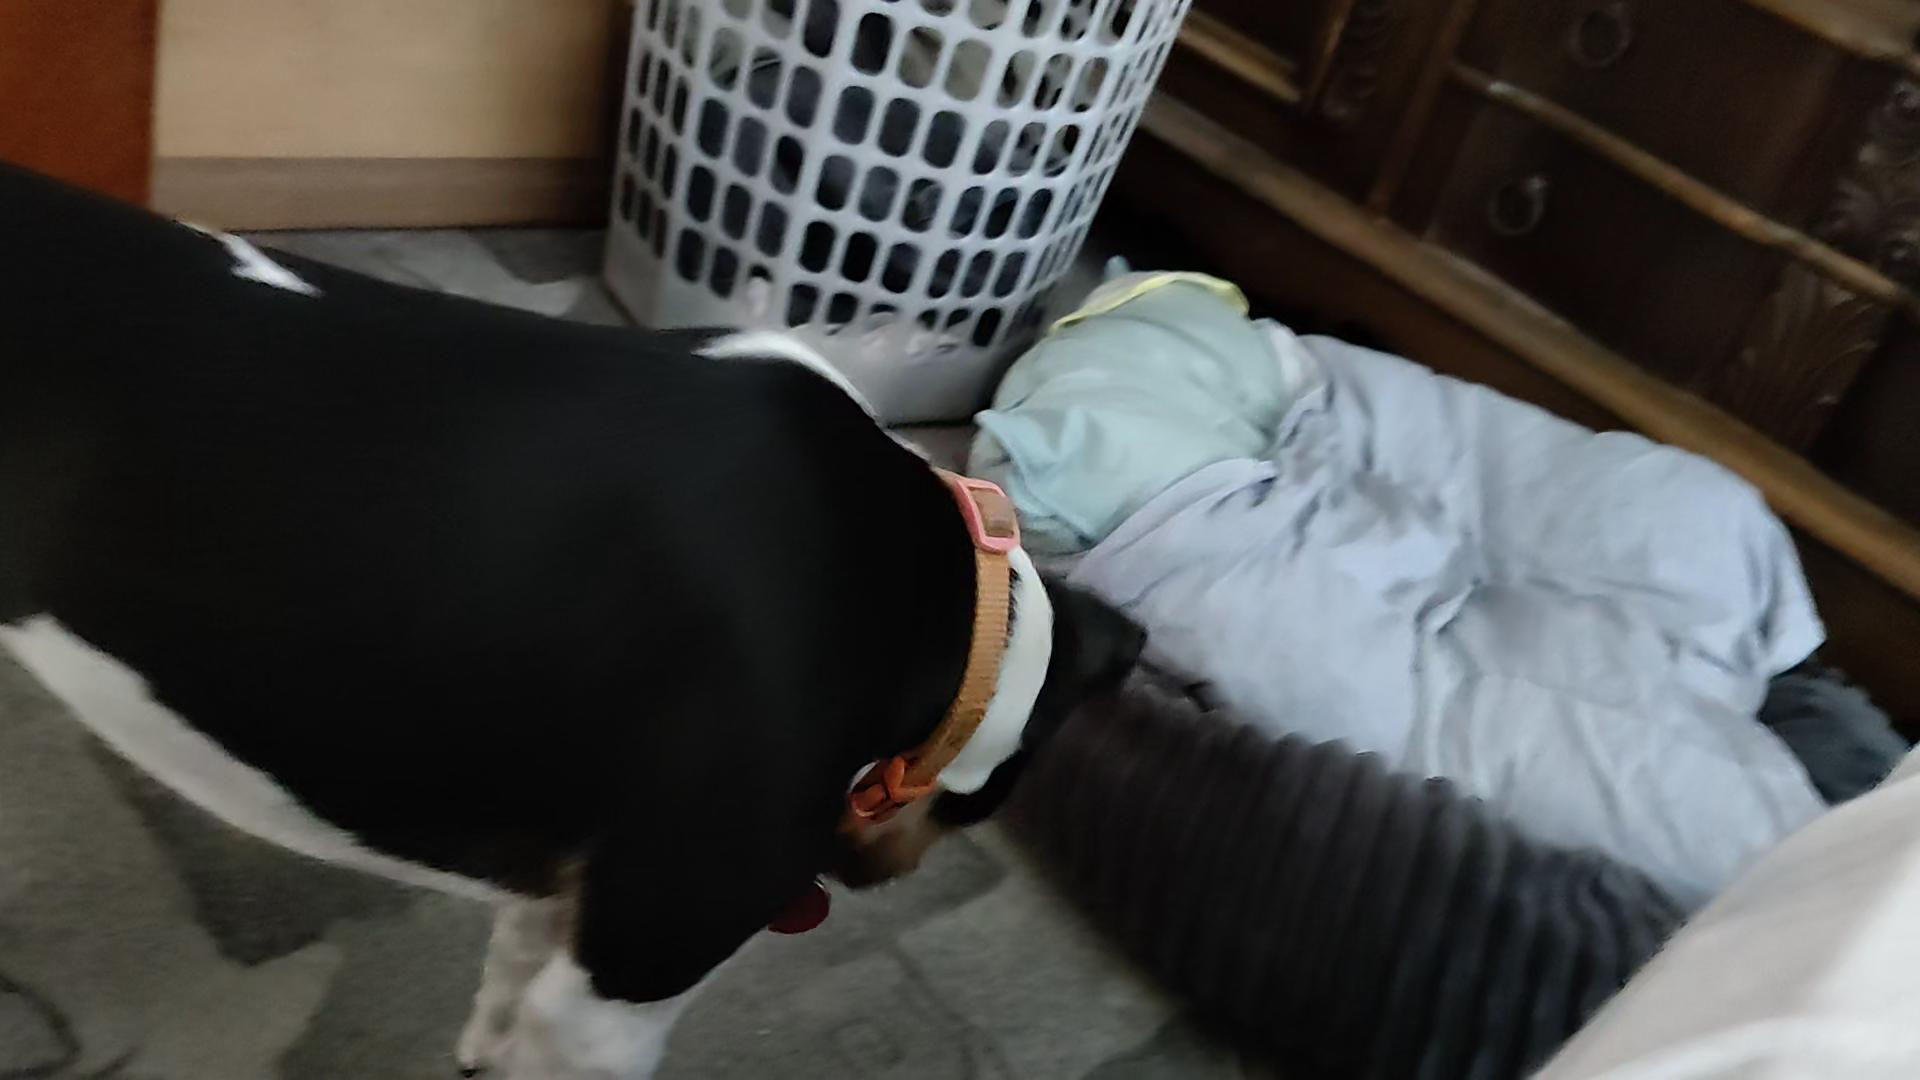Dog: (0, 153, 1164, 1079)
